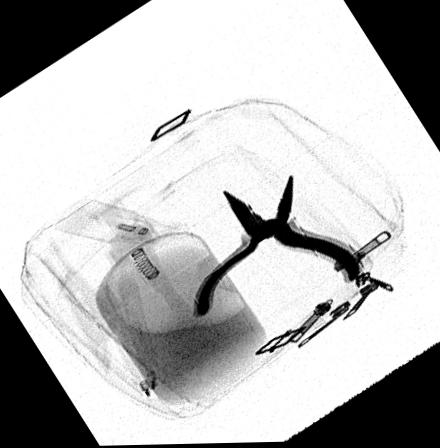Pliers: (196, 176, 366, 318)
